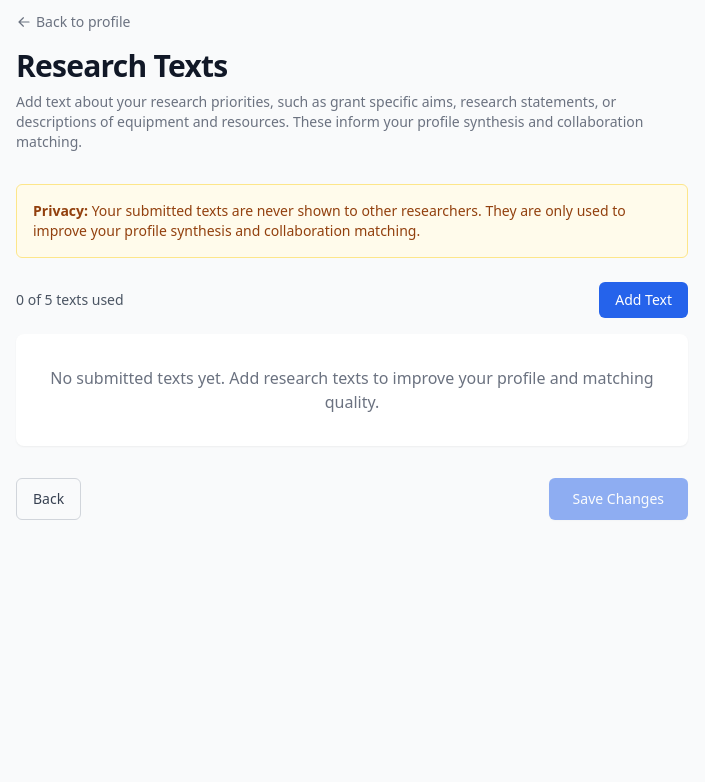
Test: SubmittedTextsPage › marks form dirty after adding a text
Expected: the button "Save Changes" is disabled, [549,478,688,520]
// Add a text
Click the button "Add Text" at (644, 300), box [599,282,688,318]
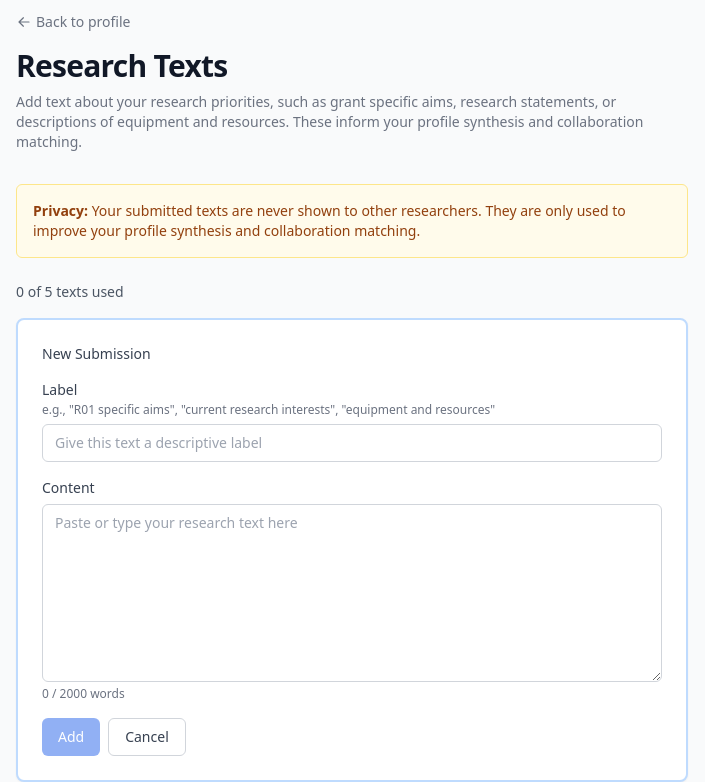
Type "Test" into the field with test id "edit-label" at (352, 443), box [42,424,662,462]
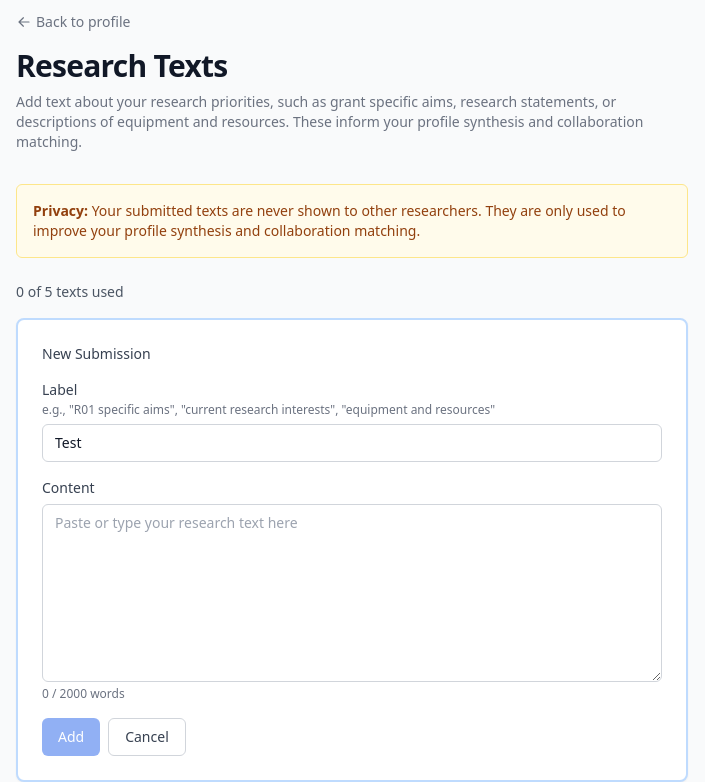
Type "Content" into the text box with test id "edit-content" at (352, 593), box [42,504,662,682]
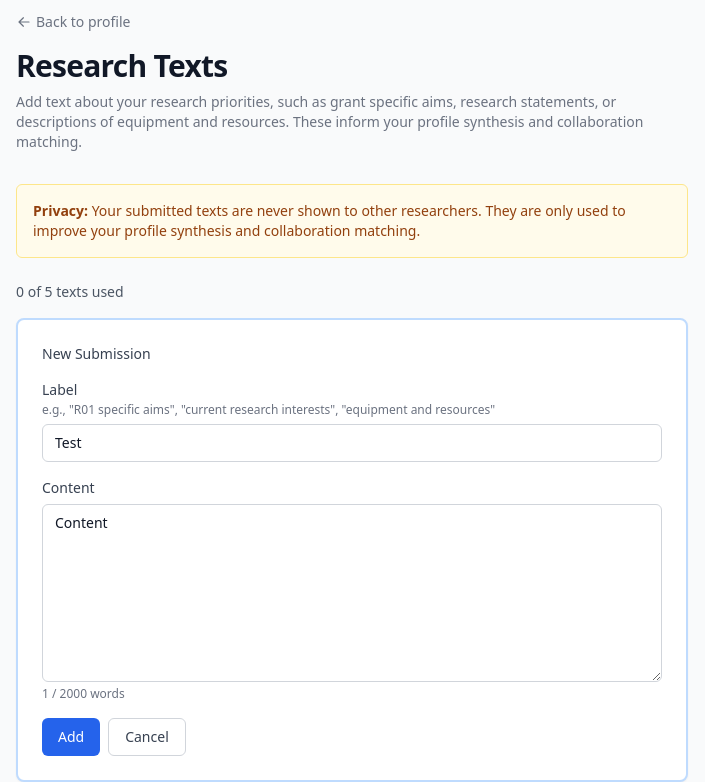
Click the button "Add" at (71, 737), box [42,718,100,756]
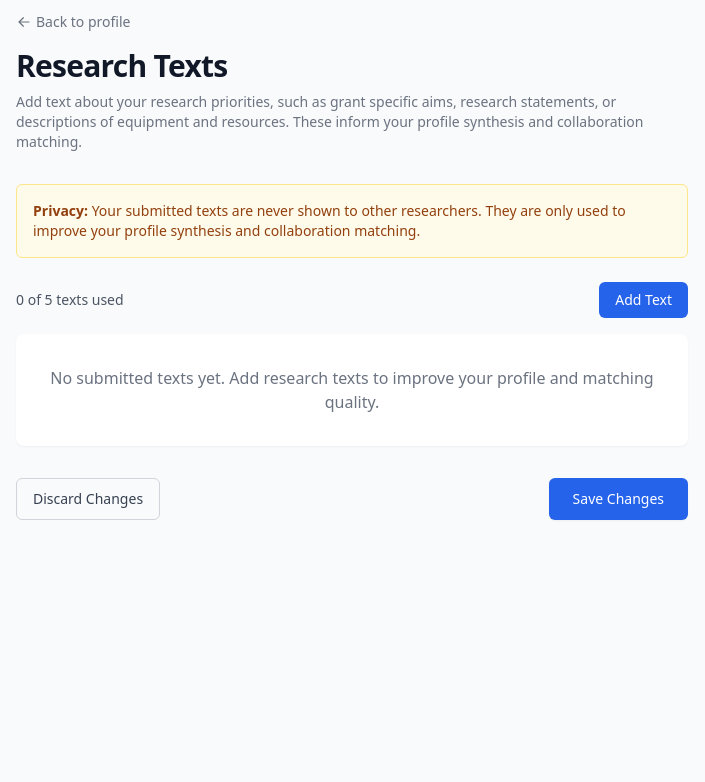
Result: the button "Save Changes" is enabled at [549,478,688,520]
Result: the button "Discard Changes" is shown at [16,478,160,520]
